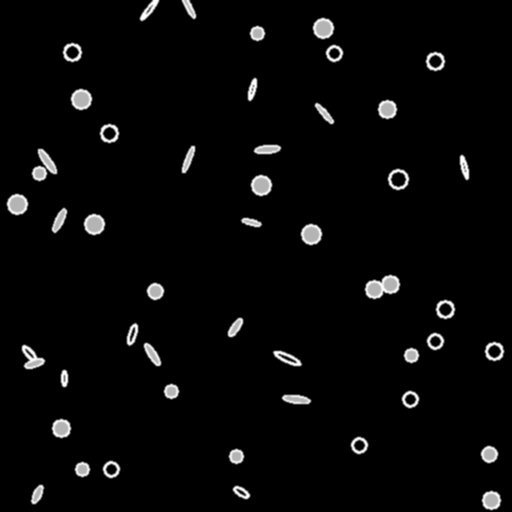pseudomonas: (37, 148, 57, 174), (273, 349, 301, 367), (314, 102, 334, 124), (143, 342, 161, 366), (139, 0, 159, 21), (51, 208, 67, 232), (181, 146, 195, 172), (227, 317, 243, 337), (21, 344, 37, 362), (180, 0, 196, 18), (232, 484, 250, 500), (30, 484, 44, 504), (126, 323, 138, 345), (283, 394, 309, 404), (459, 155, 469, 179), (24, 357, 44, 369), (247, 78, 257, 100), (254, 145, 280, 153), (242, 217, 260, 227), (61, 370, 67, 386)
synechocystis: (85, 215, 103, 233), (252, 176, 270, 194), (314, 19, 332, 37), (72, 90, 90, 108), (389, 170, 407, 188), (302, 225, 320, 243), (8, 195, 26, 213), (437, 301, 453, 317), (486, 343, 502, 359), (53, 420, 69, 436), (101, 125, 117, 141), (379, 101, 395, 117), (427, 53, 443, 69), (483, 492, 499, 508), (366, 281, 382, 297), (382, 276, 398, 292), (64, 44, 80, 60), (148, 284, 162, 298), (428, 334, 442, 348), (352, 438, 366, 452), (403, 392, 417, 406), (327, 46, 341, 60), (104, 462, 118, 476), (482, 447, 496, 461), (76, 463, 88, 475), (405, 349, 417, 361), (33, 167, 45, 179), (230, 450, 242, 462), (165, 385, 177, 397), (251, 27, 263, 39)
